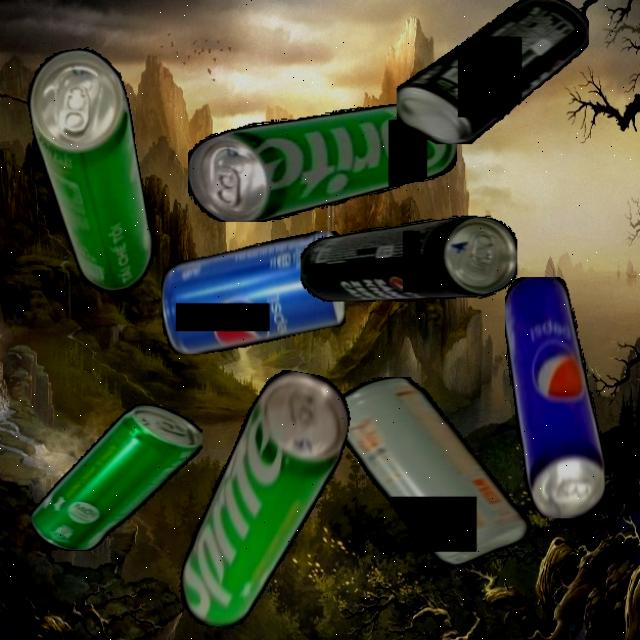debris: (174, 359, 356, 640), (331, 376, 531, 564), (21, 42, 160, 299), (188, 103, 457, 222), (396, 0, 589, 144), (31, 403, 202, 551), (504, 276, 605, 518), (160, 230, 346, 354), (300, 216, 518, 302)
